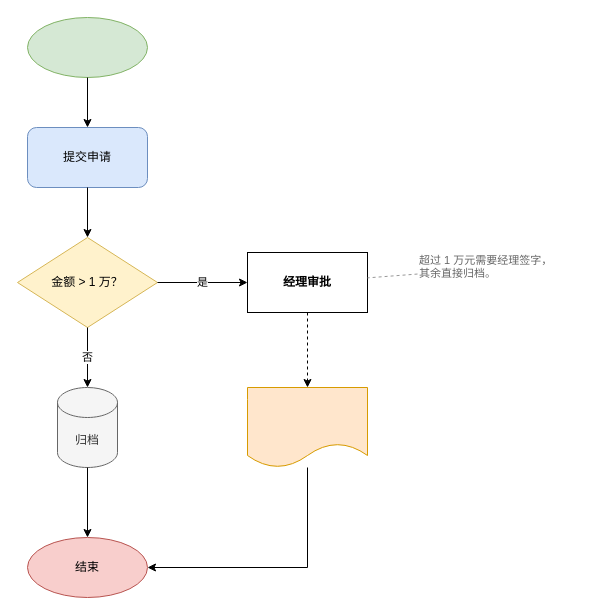
Some shapes in this 605 by 615 pixel diagram are drawn without their labels. Each missing label, with the centre of its shape:
"审批单" belongs at pixel 307 427.
"开始" belongs at pixel 87 47.
